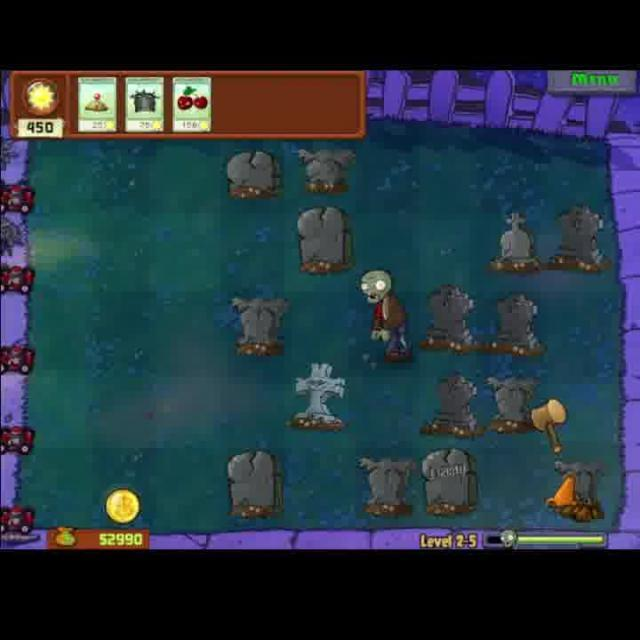coins: (104, 484, 141, 528)
zombies: (354, 266, 412, 364), (545, 470, 585, 516)
